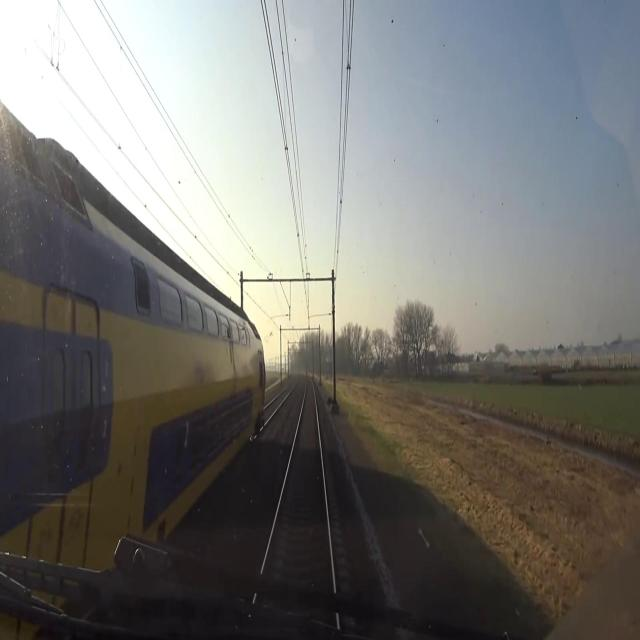rail-track: (264, 379, 332, 596), (264, 393, 284, 418)
